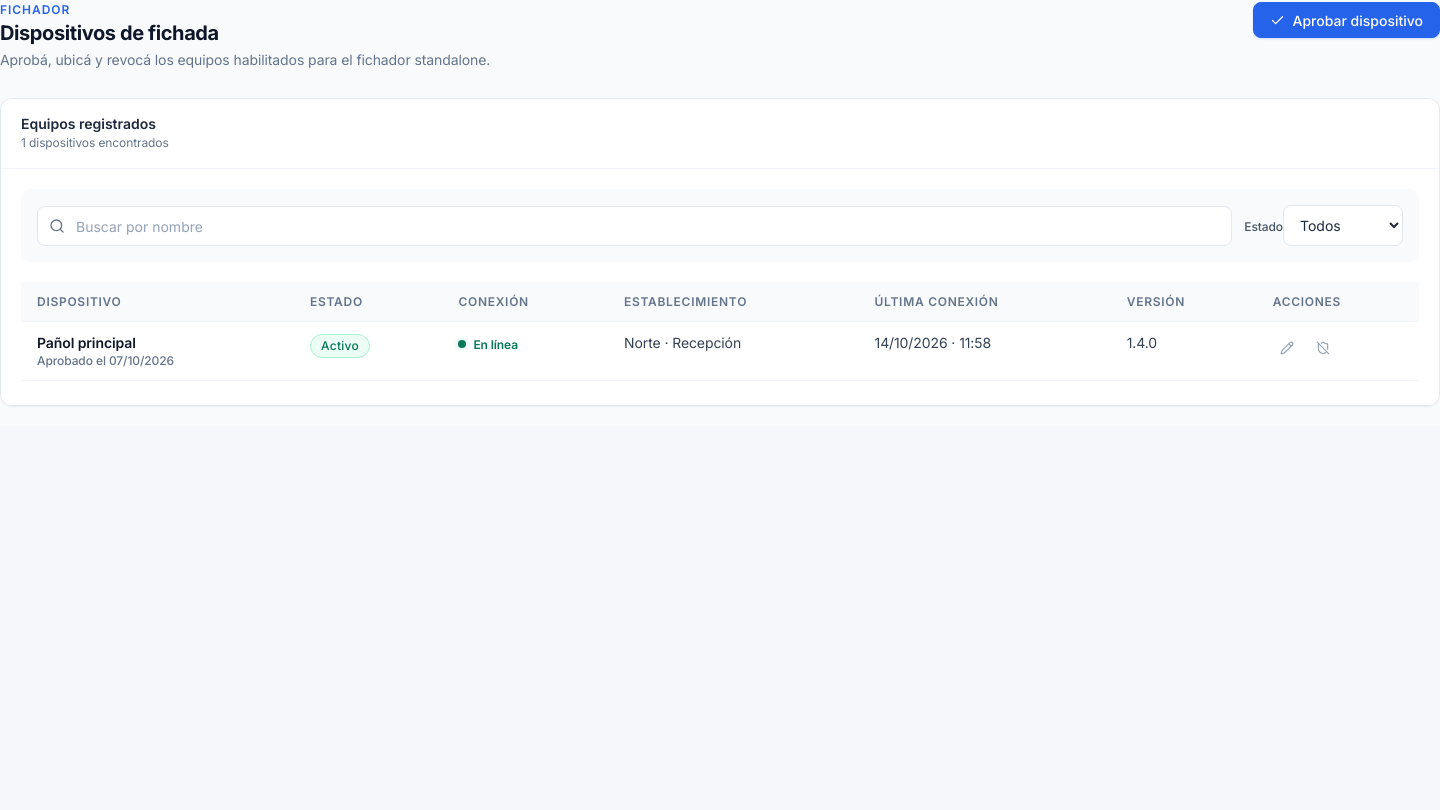
Test: ClockDevicesPage › F9: edita nombre y establecimiento con validación inline y confirma con un aviso breve
Click the button named "Editar Pañol principal" at (1287,348), box [1273,334,1301,362]
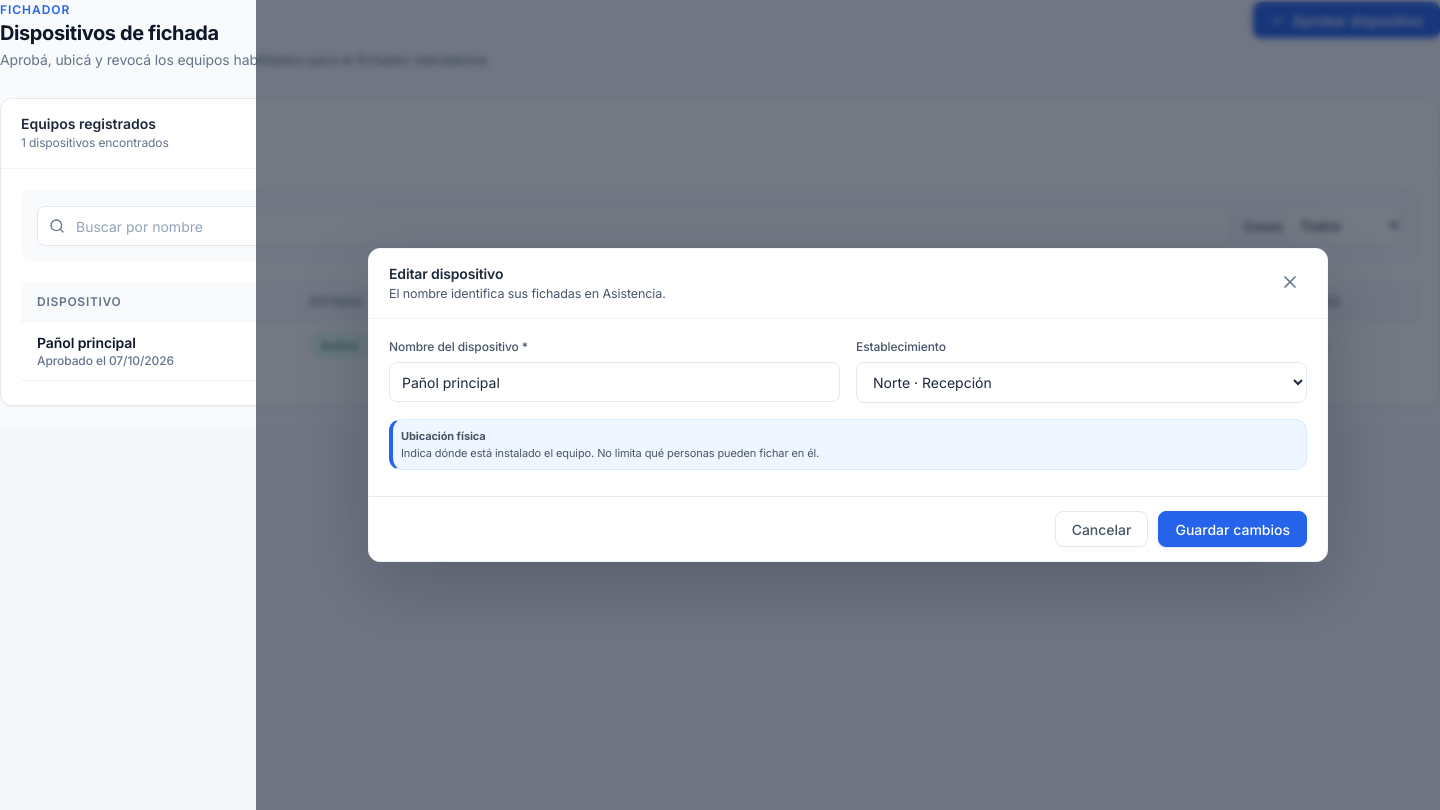
Result: the text "Indica dónde está instalado el equipo. No limita qué personas pueden fichar en él." is shown at [401,446,819,460]
Clear the field labelled "Nombre del dispositivo *" at (614,382), box [389,362,840,402]
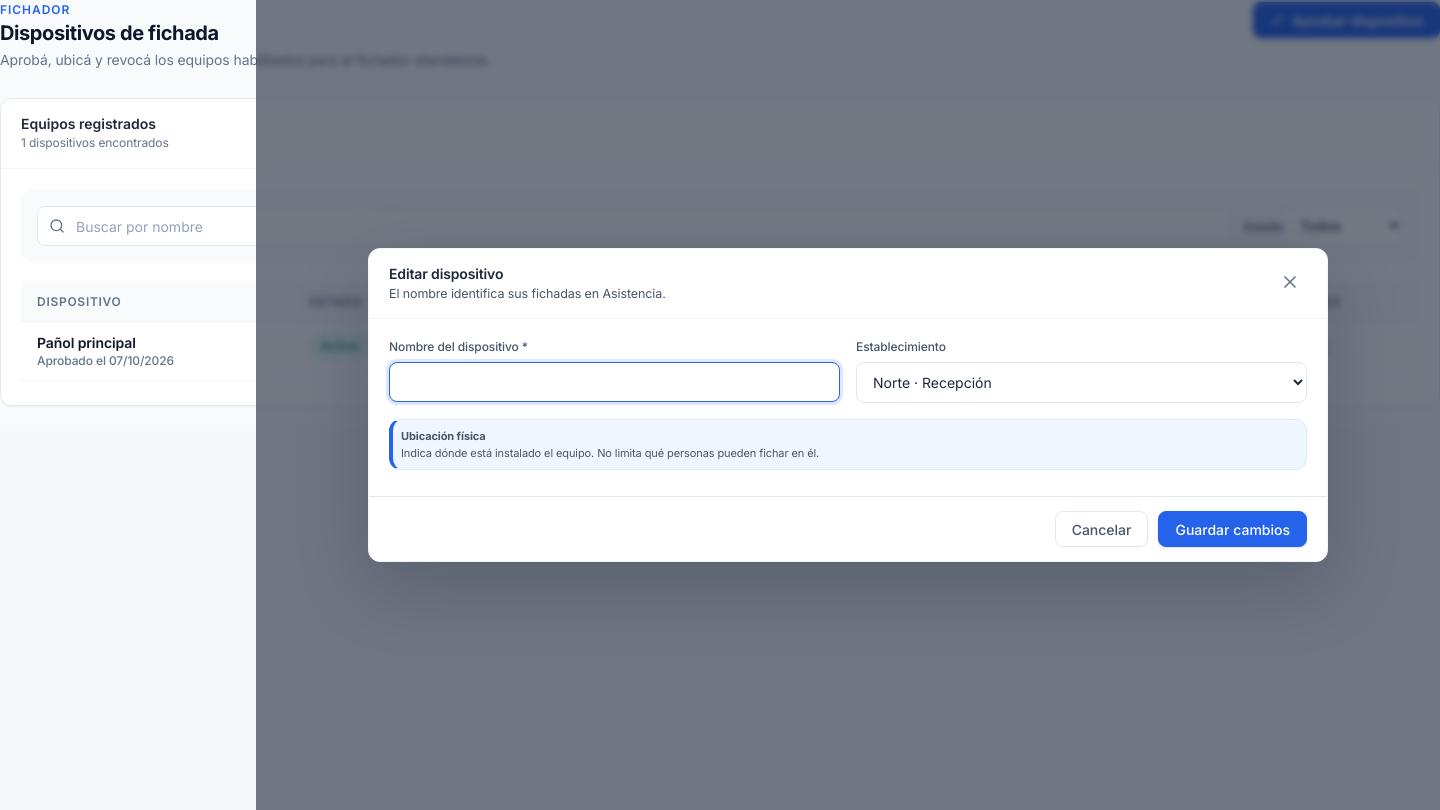
Click the button "Guardar cambios" at (1233,529), box [1158,511,1307,547]
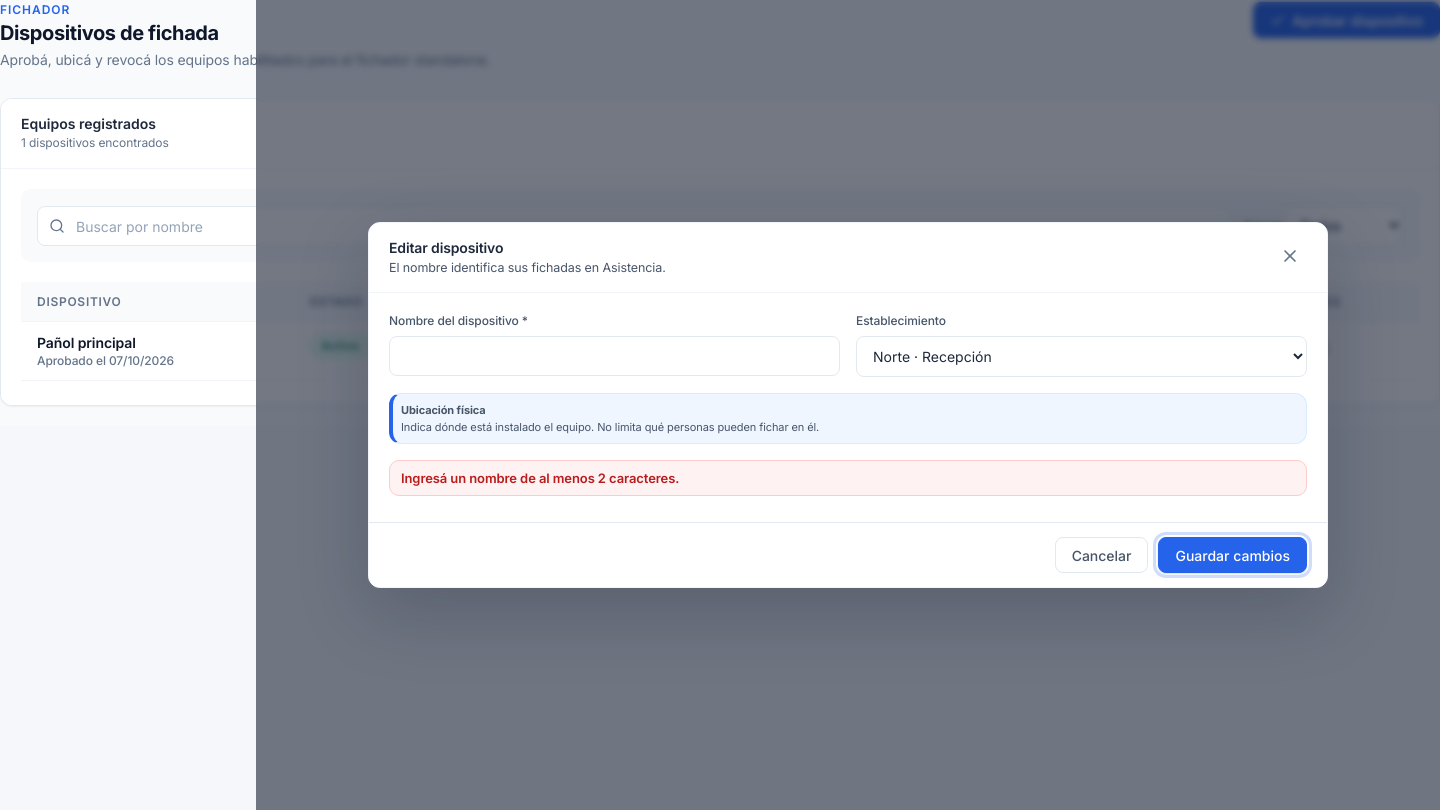
Result: the text "Ingresá un nombre de al menos 2 caracteres." is shown at [389,460,1307,496]
Type "  Pañol central " into the field labelled "Nombre del dispositivo *" at (614,356), box [389,336,840,376]
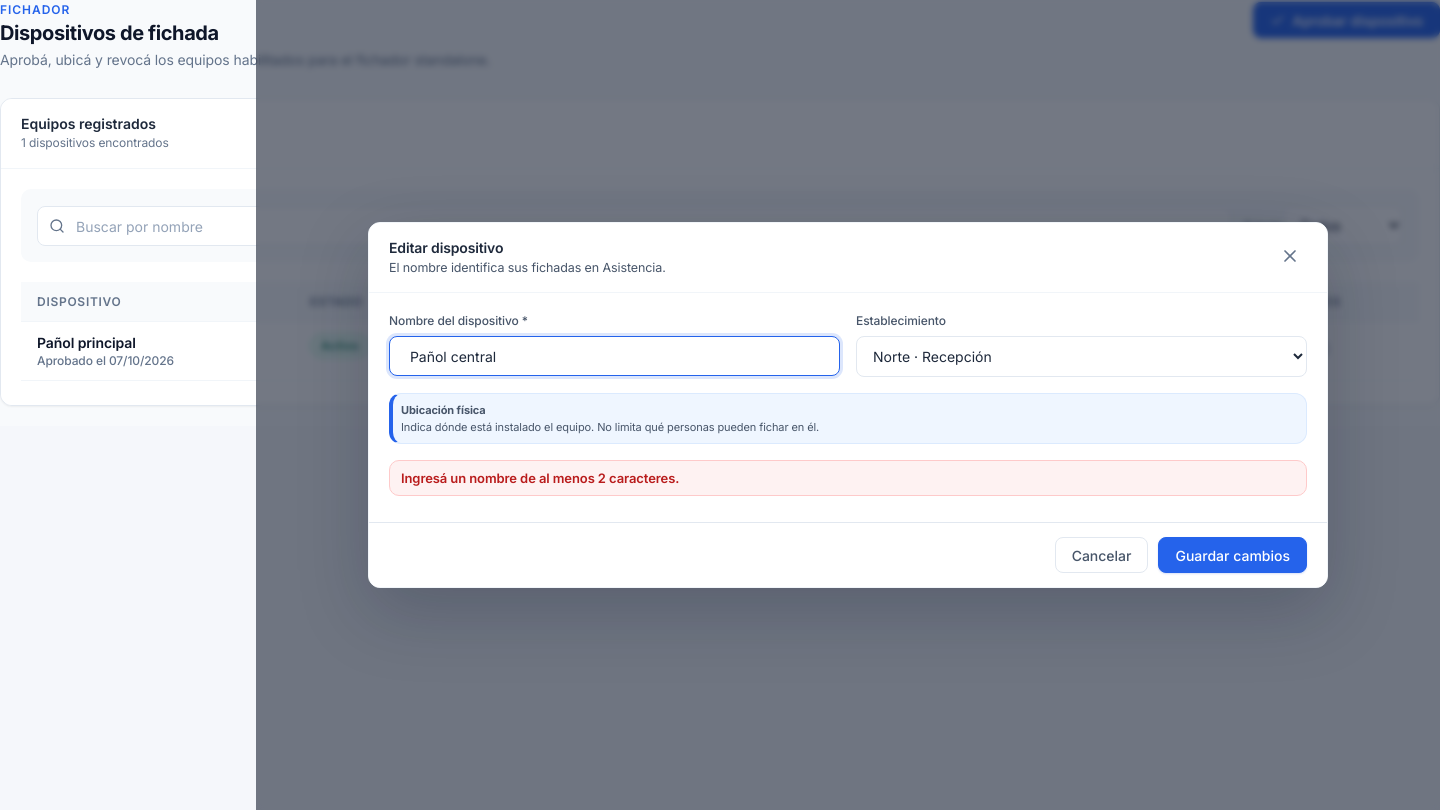
Select "Norte · Pañol" in the dropdown labelled "Establecimiento" at (1082,357), box [856,336,1307,377]
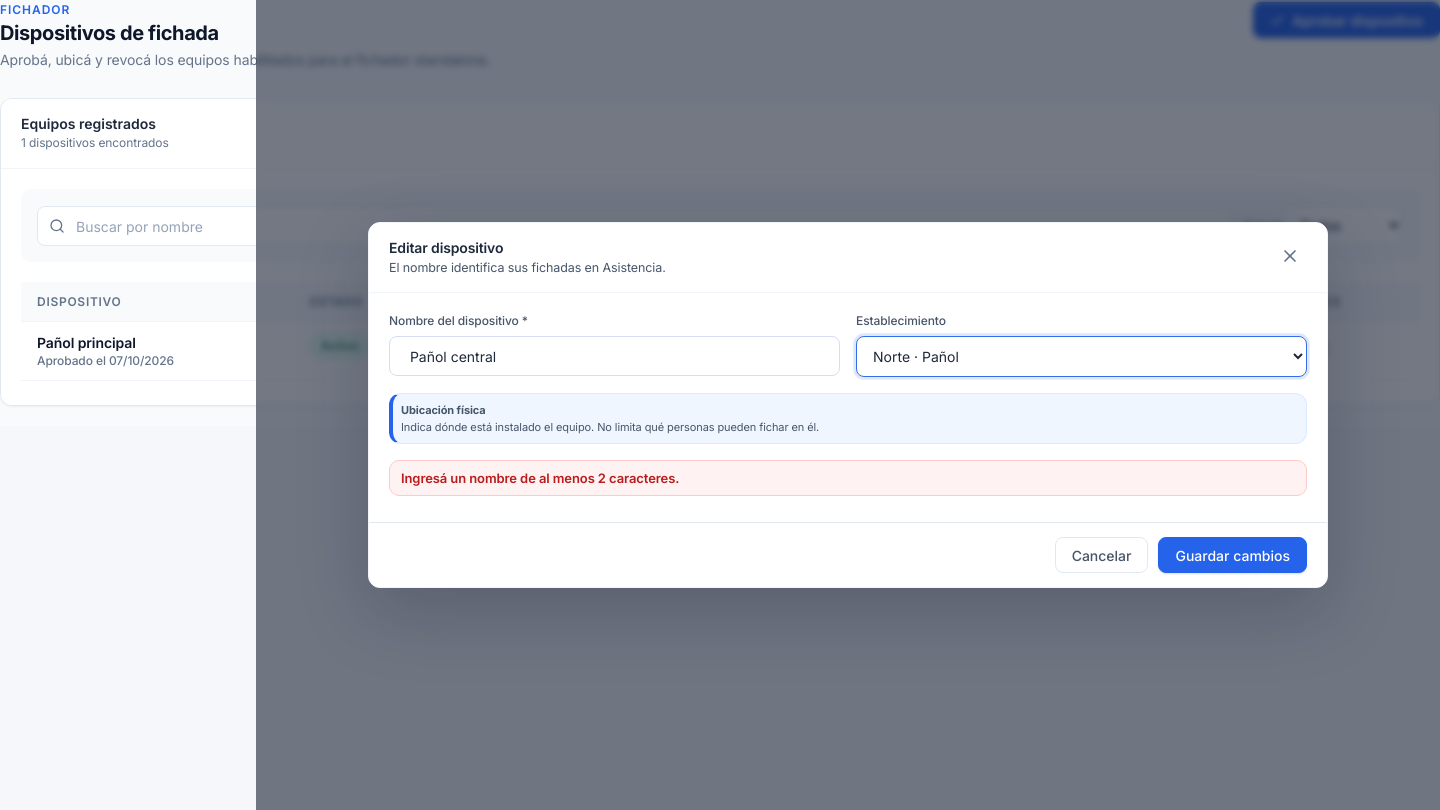
Click the button "Guardar cambios" at (1233,555), box [1158,537,1307,573]
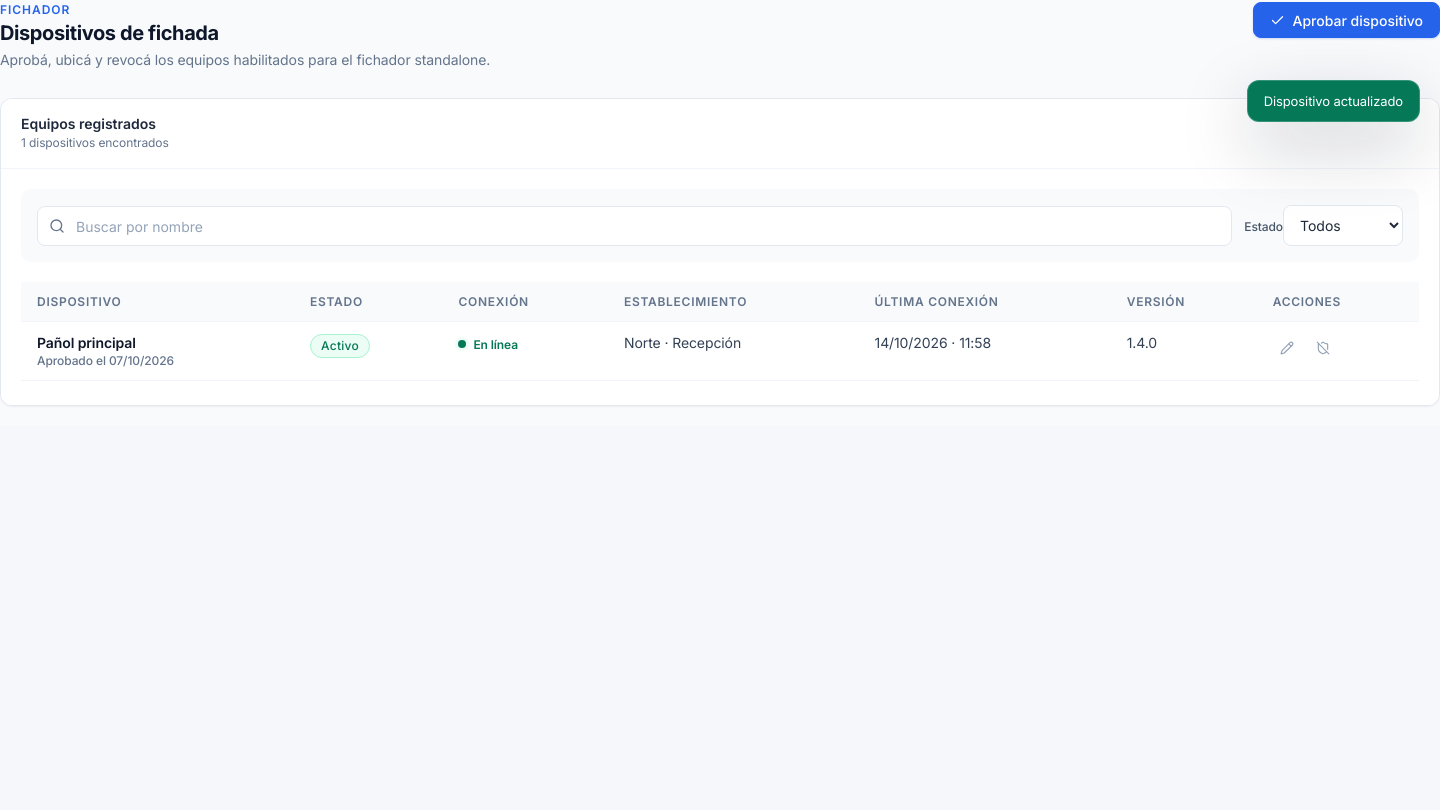
Result: the message reads "Dispositivo actualizado" at [1264,93,1403,109]
Result: the heading "Editar dispositivo" is gone
